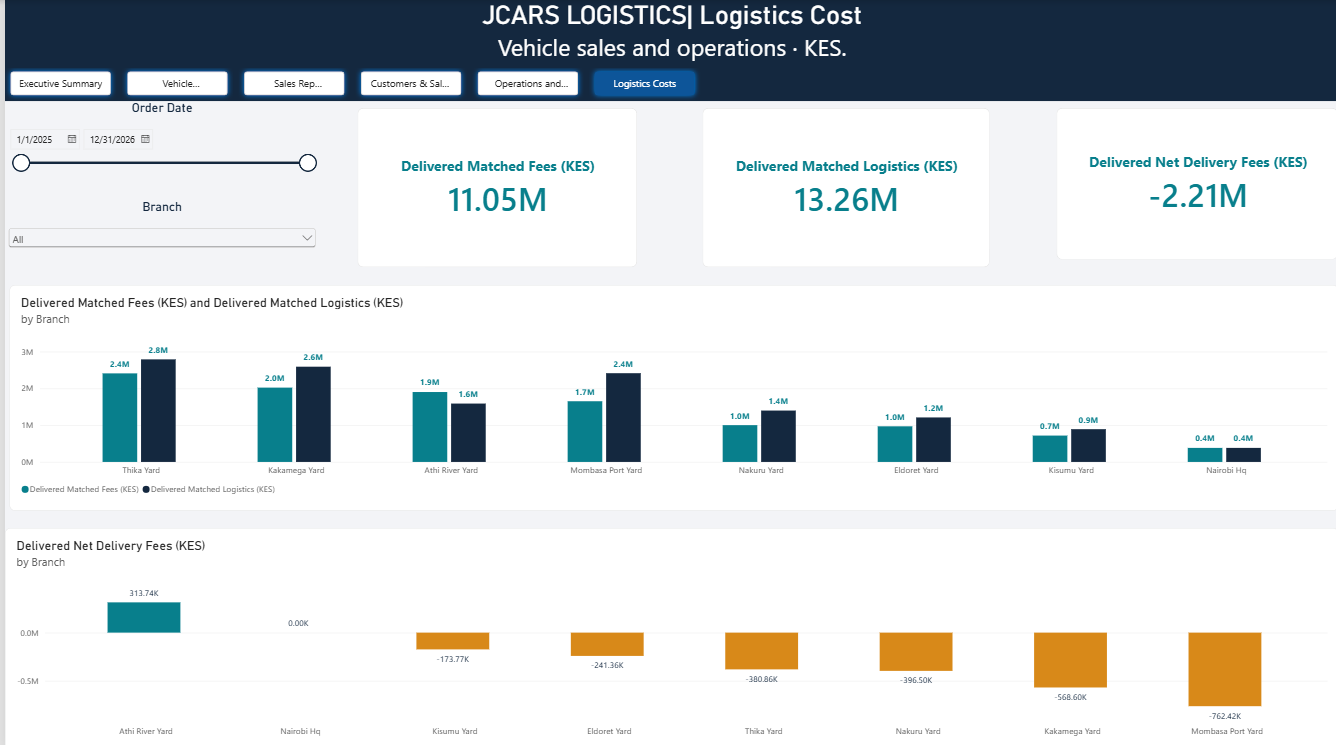

The dashboard page shown, as its layout file describes it:
{"tool":"powerbi","page":{"name":"Logistics Costs","canvas":[1920,1080],"ordinal":6},"visuals":[{"type":"shape","box":[0,0,1919.3,145.4],"z":0},{"type":"textbox","title":"JCARS LOGISTICS| Logistics Cost","box":[0,0,1919.3,88.6],"z":1000},{"type":"cardVisual","fields":{"Data":["Fact_Sales.Delivered Matched Fees (KES)"]},"box":[506.5,154.4,402,229.4],"z":2000},{"type":"cardVisual","fields":{"Data":["Fact_Sales.Delivered Matched Logistics (KES)"]},"box":[1003.9,154.4,413.4,229.4],"z":3000},{"type":"cardVisual","fields":{"Data":["Fact_Sales.Delivered Net Delivery Fees (KES)"]},"box":[1512.7,154.4,406.6,218],"z":4000},{"type":"clusteredColumnChart","fields":{"Category":["DimBranch.Branch"],"Y":["Fact_Sales.Delivered Net Delivery Fees (KES)"]},"box":[0,758.6,1919.3,322.5],"z":5000},{"type":"slicer","title":"Order Date ","fields":{"Values":["DimDate.Date"]},"box":[0,145.4,452,145.4],"z":7000},{"type":"slicer","title":"Branch","fields":{"Values":["DimBranch.Branch"]},"box":[0,286.2,452,72.7],"z":8000},{"type":"clusteredColumnChart","fields":{"Category":["DimBranch.Branch"],"Y":["Fact_Sales.Delivered Matched Fees (KES)","Fact_Sales.Delivered Matched Logistics (KES)"]},"box":[6.8,408.8,1912.4,324.8],"z":10000},{"type":"pageNavigator","box":[0,94.9,1000,50],"z":10001}]}

Visuals, with their boxes on the page's 1920x1080 design canvas (x1, y1, x2, y2). These are canvas units, not pixel positions in the 1336x745 screenshot, which may show the page scaled, cropped or inside an application window:
shape: (0, 0, 1919, 145)
"JCARS LOGISTICS| Logistics Cost" textbox: (0, 0, 1919, 89)
cardVisual - Fact_Sales.Delivered Matched Fees (KES): (506, 154, 908, 384)
cardVisual - Fact_Sales.Delivered Matched Logistics (KES): (1004, 154, 1417, 384)
cardVisual - Fact_Sales.Delivered Net Delivery Fees (KES): (1513, 154, 1919, 372)
clusteredColumnChart - DimBranch.Branch x Fact_Sales.Delivered Net Delivery Fees (KES): (0, 759, 1919, 1081)
"Order Date " slicer: (0, 145, 452, 291)
"Branch" slicer: (0, 286, 452, 359)
clusteredColumnChart - DimBranch.Branch x Fact_Sales.Delivered Matched Fees (KES): (7, 409, 1919, 734)
pageNavigator: (0, 95, 1000, 145)
